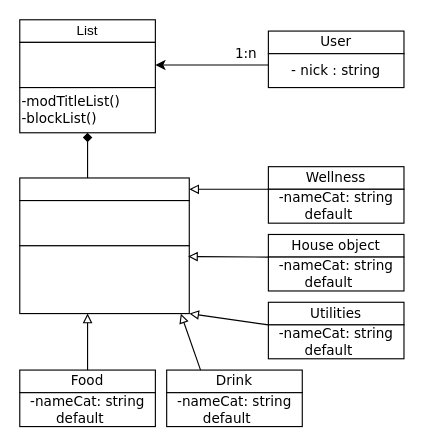
Image size: 424x446. Some labels were removed from this diagram. The shapes that lost their labels are listed below. From the top down, each one's centre as x and y in pixels, then its label:
[87,64]: - title : string - item : vector
[104,189]: Item (virtual)
[104,222]: -nome :string -quantity: string
[104,279]: -modName() virtual -modQuantity() virtual
